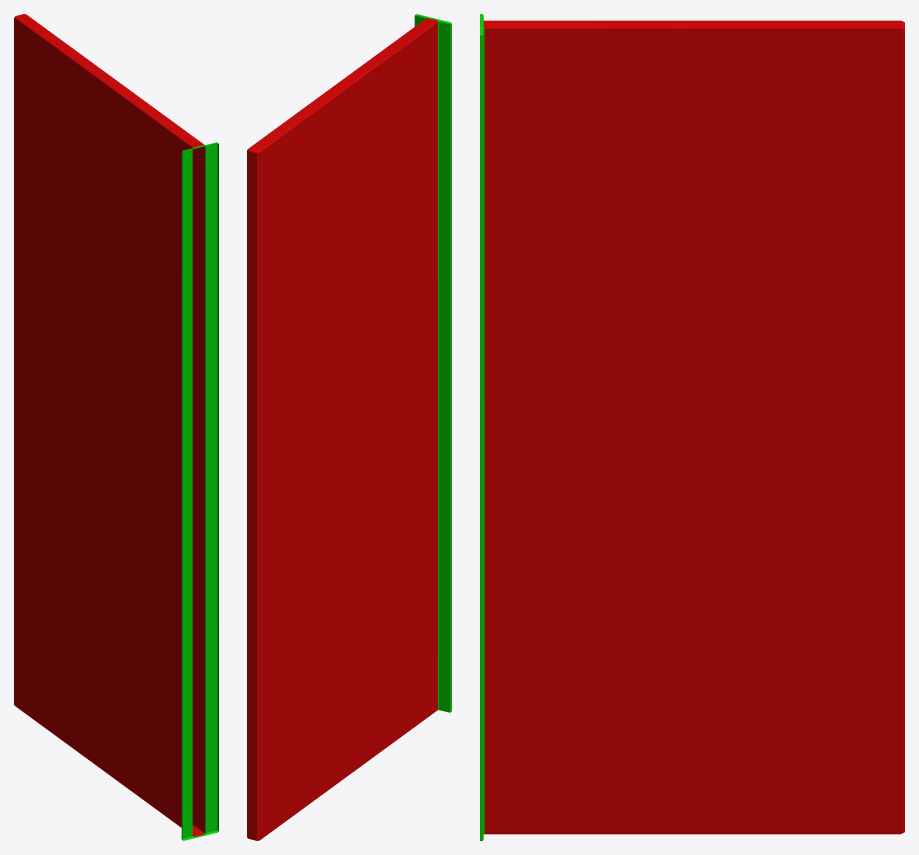
The model's file is Urinal_Seperator.FBX.
The picture shows the model from 3 angles, left to right: view 1: azimuth 30°, elevation 25°; view 2: azimuth 150°, elevation 25°; view 3: azimuth 270°, elevation 25°; orthographic projection. The views are drawn at different scales.
Visible parts, largest first — view 1: Box024; view 2: Box024; view 3: Box024.
Part boxes in pixels (x1=…): Box024: x1=14, y1=14, x2=218, y2=840; Box024: x1=247, y1=14, x2=451, y2=840; Box024: x1=480, y1=14, x2=904, y2=840.
Size of the model in its own units: 1.86 by 33.9 by 16.16.
